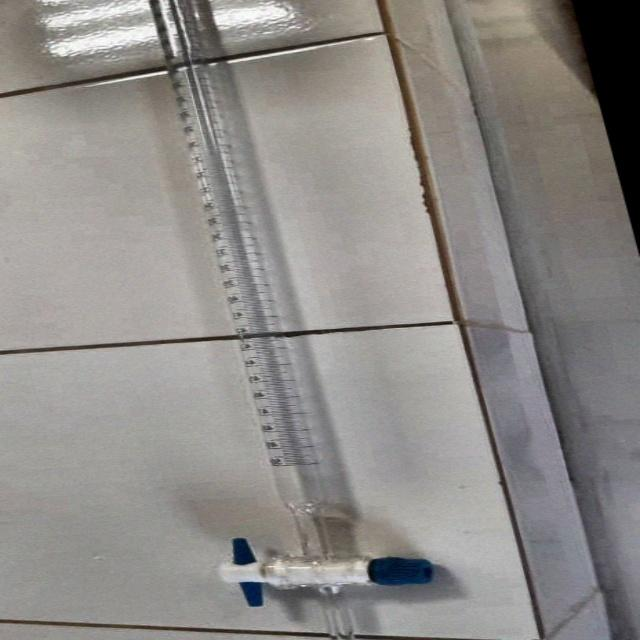Biurette: (44, 3, 476, 640)
